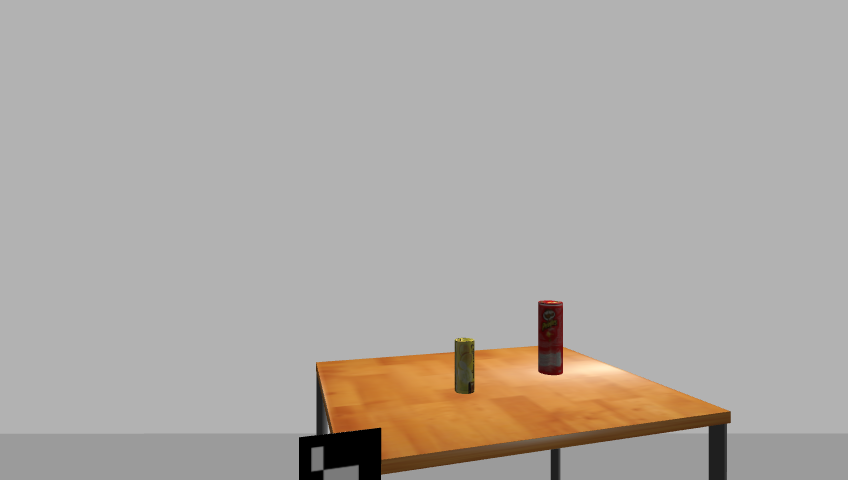aruco marker: (293, 427, 387, 480)
biscuits pack: (453, 338, 477, 396)
dinner table: (307, 344, 739, 480)
pringles can: (535, 301, 566, 377)
